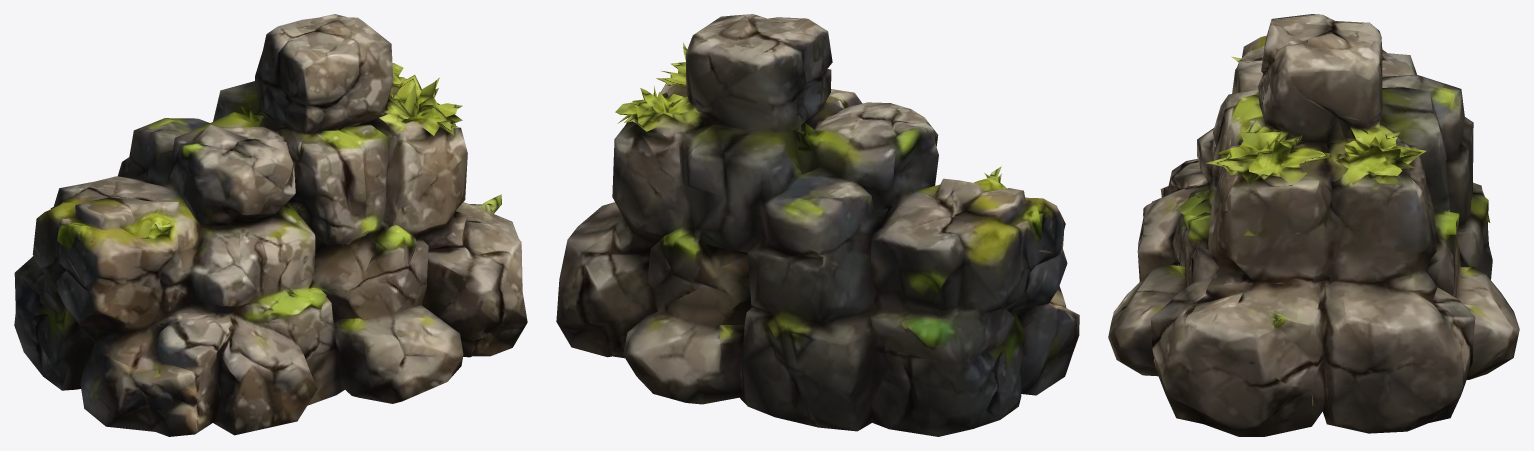
File: rock_big.glb
3 renders of one model, left to right at view 1: azimuth 30°, elevation 25°; view 2: azimuth 150°, elevation 25°; view 3: azimuth 270°, elevation 25°, orthographic. The views are drawn at different scales.
Parts seen in each view (by area): view 1: tripo_node_151a7cf2-e196-4141-a170-def49018af9d; view 2: tripo_node_151a7cf2-e196-4141-a170-def49018af9d; view 3: tripo_node_151a7cf2-e196-4141-a170-def49018af9d.
Boxes of the visible parts, box(x1,y1,x2,y2) form: tripo_node_151a7cf2-e196-4141-a170-def49018af9d: box(14, 14, 527, 436); tripo_node_151a7cf2-e196-4141-a170-def49018af9d: box(556, 14, 1079, 436); tripo_node_151a7cf2-e196-4141-a170-def49018af9d: box(1108, 14, 1519, 436).
Bounding box in the file's own units: 0.9992 × 0.6797 × 0.7605.
Materials: 1 (1 with a texture image).
